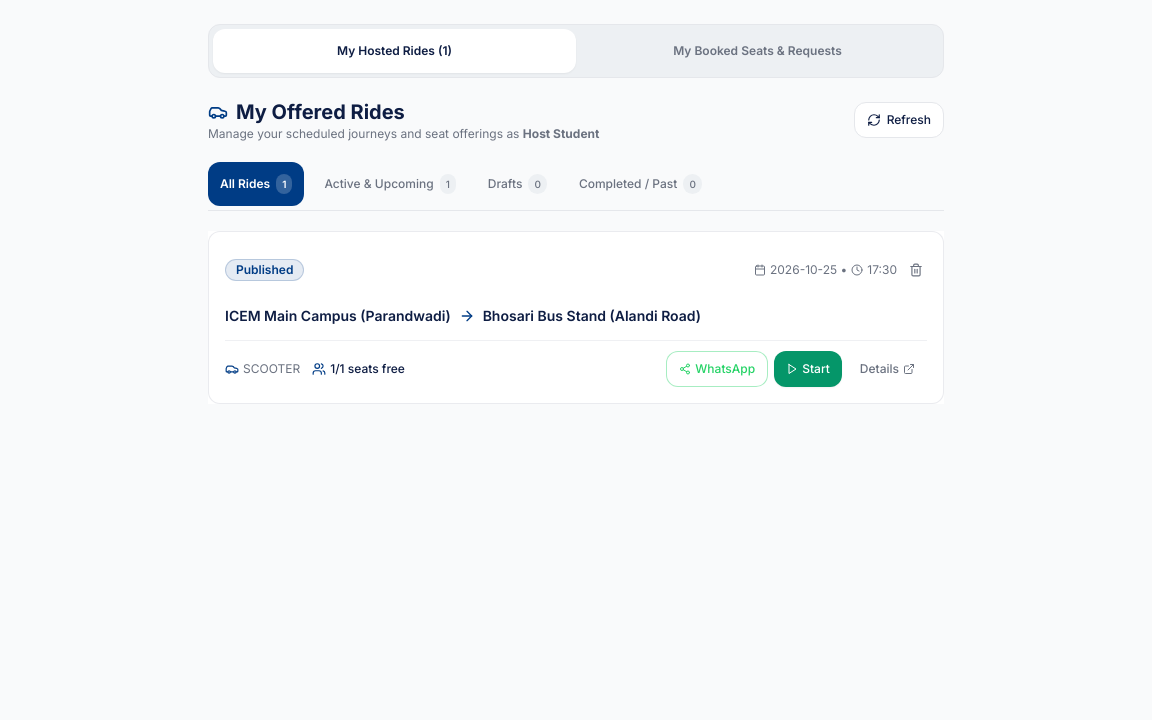
Scenario: MyRidesView Component (Phase 3) › opens RideDetailModal when clicking Details button
Expected: the text "Details" is shown, [860,361,899,377]
Click the button "Details" at {"x": 887, "y": 369}, box [848,351,927,387]
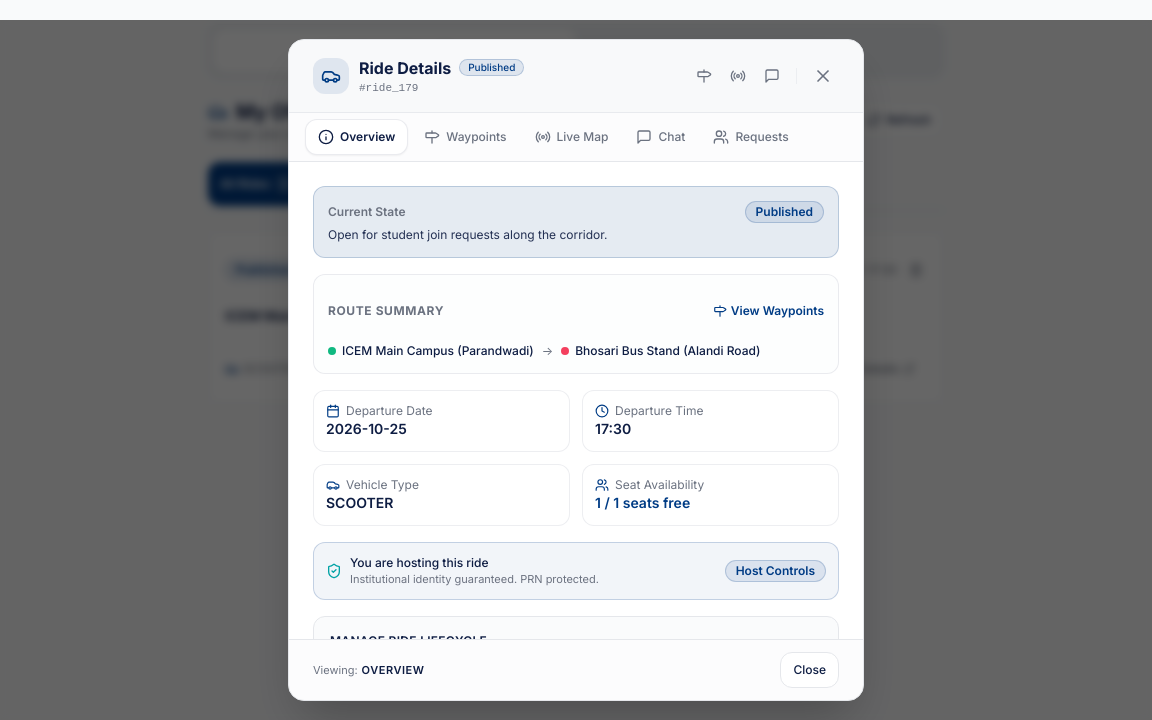
Result: the dialog is shown
Result: the heading "Ride Details" is shown at [359,56,451,80]
